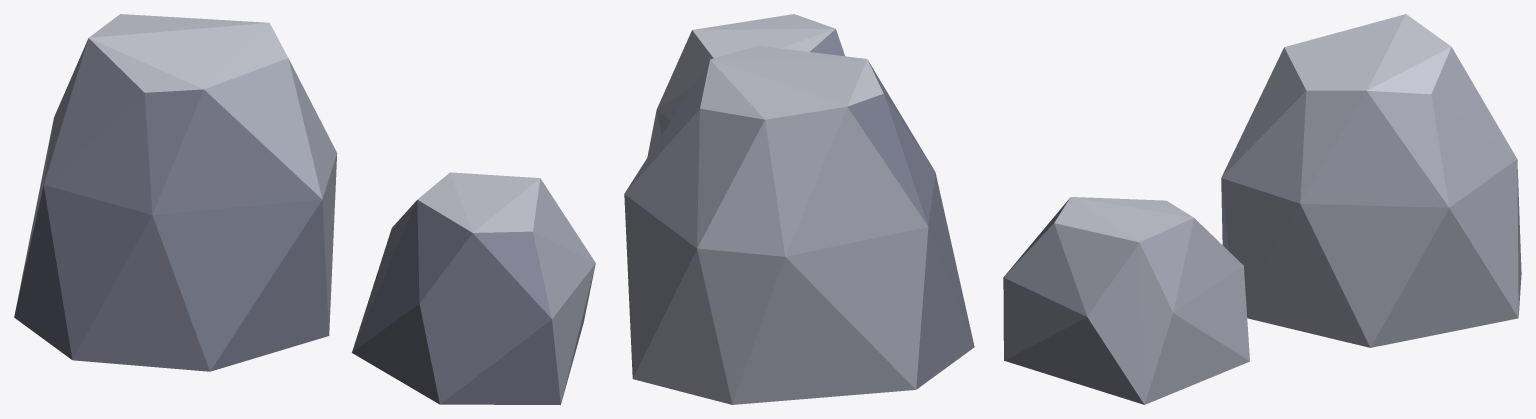
Rendered from stone_largeB.glb.
3 views of the same model, side by side, from view 1: azimuth 30°, elevation 25°; view 2: azimuth 150°, elevation 25°; view 3: azimuth 270°, elevation 25° (orthographic). The views are drawn at different scales.
Parts seen in each view (by area): view 1: stone_largeB; view 2: stone_largeB; view 3: stone_largeB.
Part boxes in pixels (<box>): stone_largeB: <box>14,14,595,404</box>; stone_largeB: <box>624,14,974,404</box>; stone_largeB: <box>1003,14,1521,404</box>.
Bounding box in the file's own units: 0.7156 × 0.4285 × 0.8471.
Materials: 1 (1 with a texture image).
